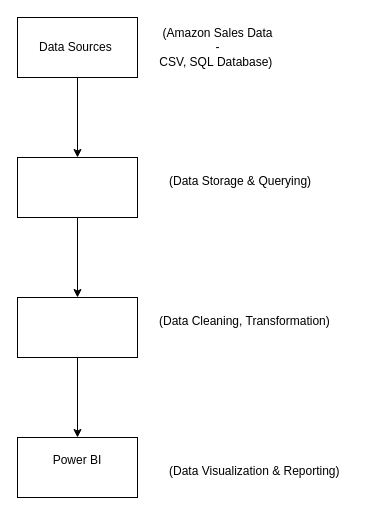
Some shapes in this 385 by 515 pixel diagram are drawn without their labels. Each missing label, with the centre of its shape:
Python: the point at 77,327
SQL Server: the point at 77,187
